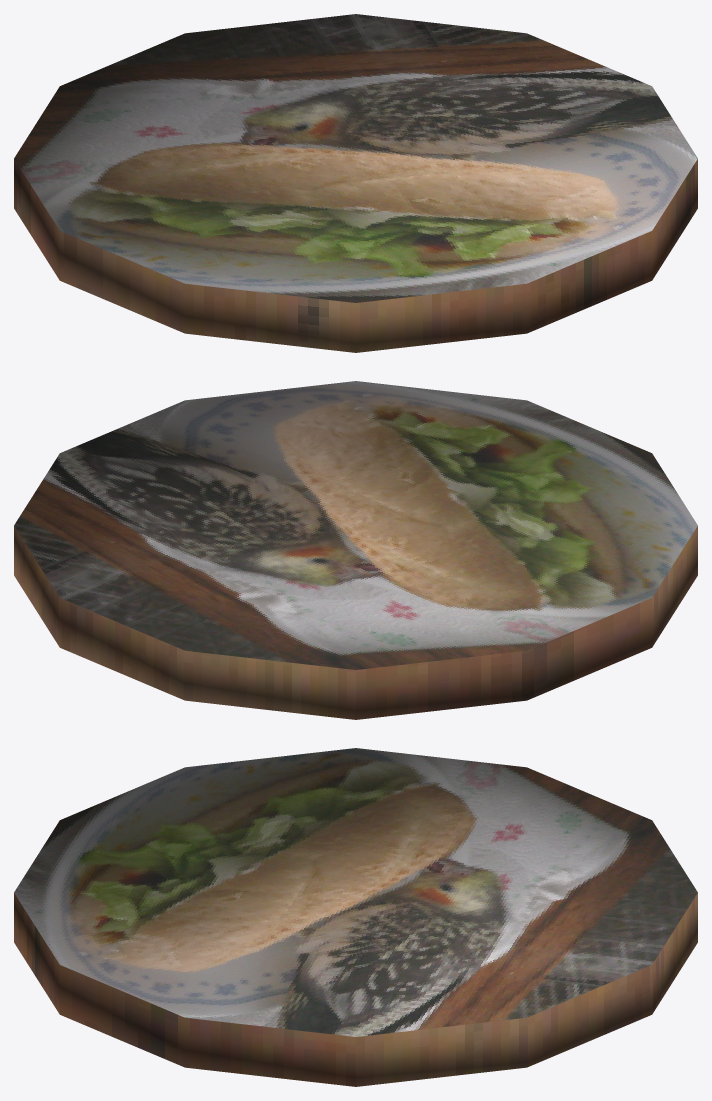
File: rotateplatform.glb
3 renders of one model, top to bottom at view 1: azimuth 30°, elevation 25°; view 2: azimuth 150°, elevation 25°; view 3: azimuth 270°, elevation 25°, orthographic.
Parts seen in each view (by area): view 1: rotateplat; view 2: rotateplat; view 3: rotateplat.
Boxes of the visible parts, x1,y1,x2,y2 form: rotateplat: (14, 14, 697, 352); rotateplat: (14, 381, 697, 719); rotateplat: (14, 748, 697, 1086).
Size of the model in its own units: 24.84 by 2 by 24.84.
1 material, 1 textured.
